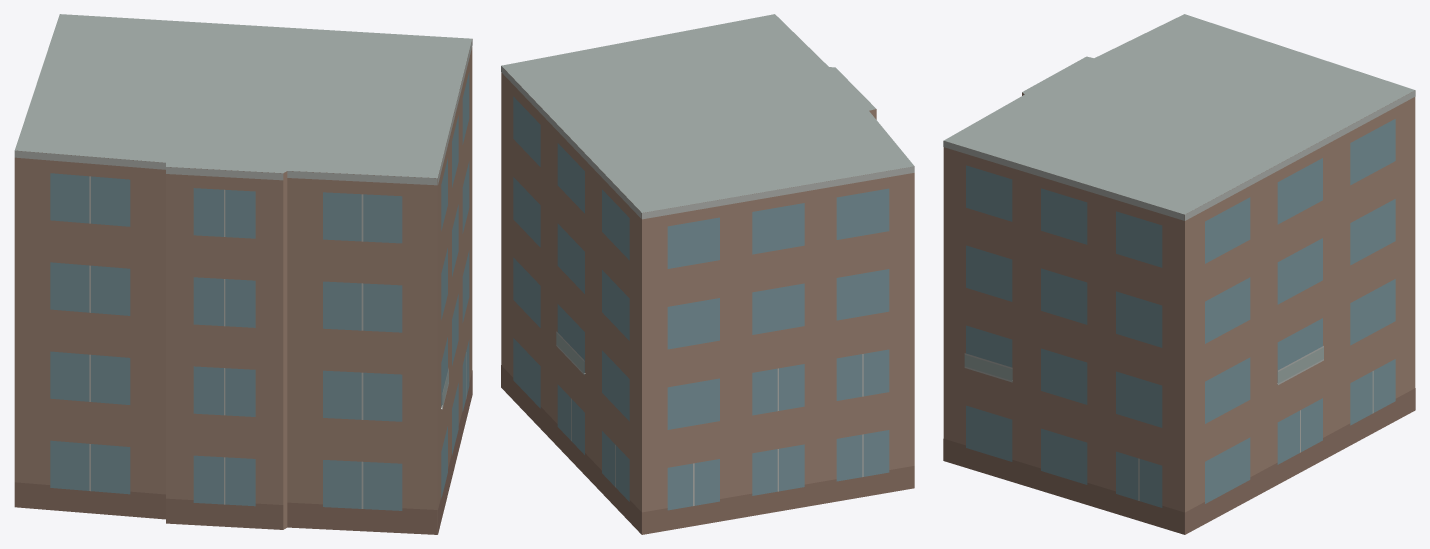
File: survey-upis-33037566.glb
The picture shows the model from 3 angles, left to right: view 1: azimuth 30°, elevation 25°; view 2: azimuth 150°, elevation 25°; view 3: azimuth 270°, elevation 25°; orthographic projection. The views are drawn at different scales.
Parts seen in each view (by area): view 1: survey-upis-33037566.tmp; view 2: survey-upis-33037566.tmp; view 3: survey-upis-33037566.tmp.
Boxes of the visible parts, x1,y1,x2,y2 form: survey-upis-33037566.tmp: [14, 14, 472, 534]; survey-upis-33037566.tmp: [501, 14, 914, 534]; survey-upis-33037566.tmp: [943, 14, 1415, 534].
Size of the model in its own units: 16.4 by 12.2 by 16.3.
